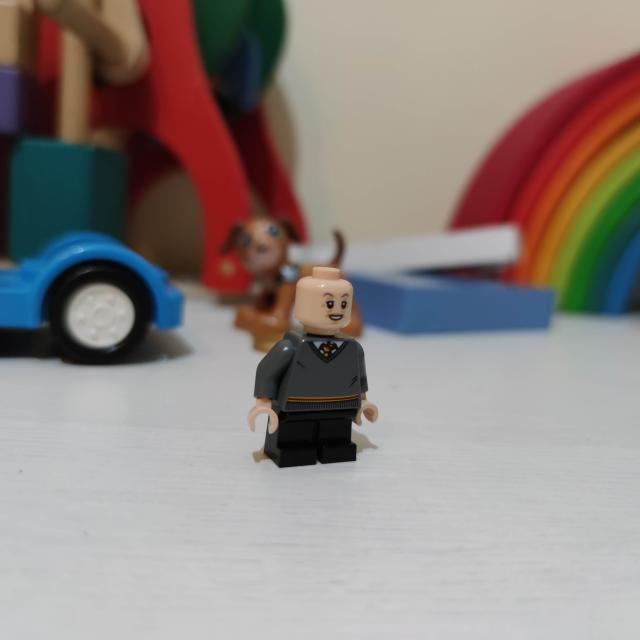lego: (240, 263, 382, 458)
